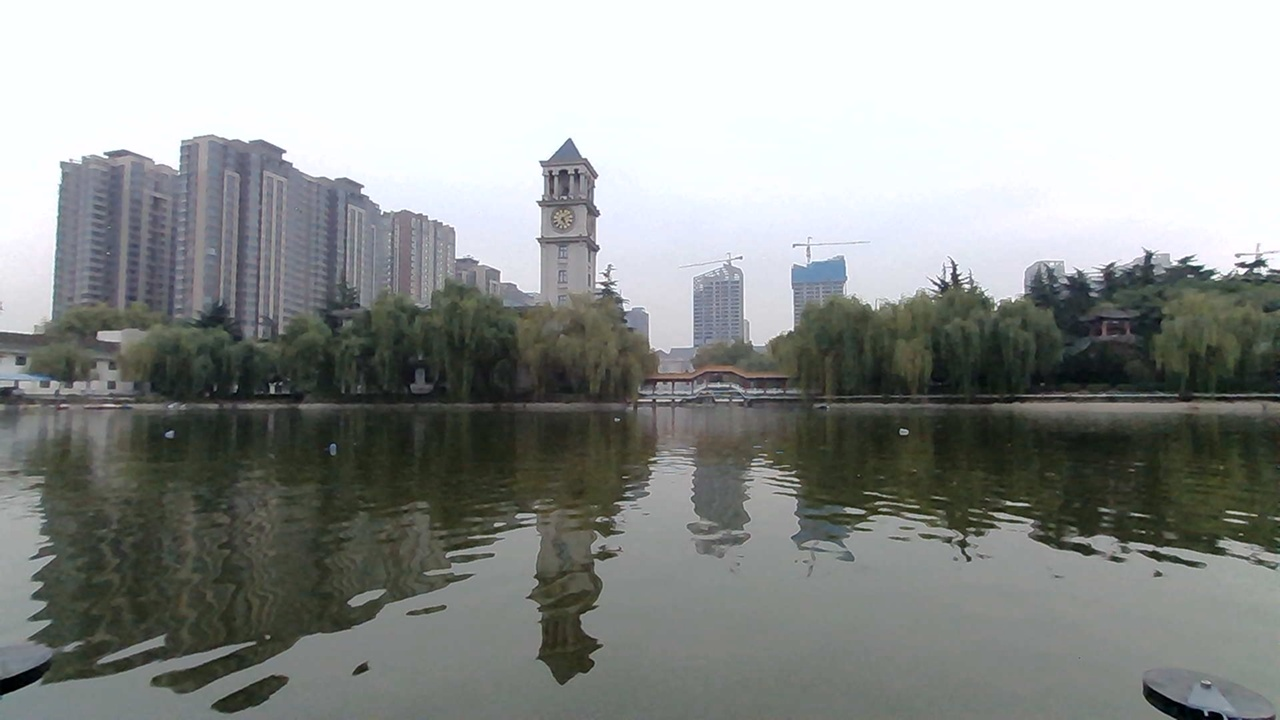bottle: (874, 422, 912, 443), (317, 440, 351, 462), (161, 418, 182, 446)
